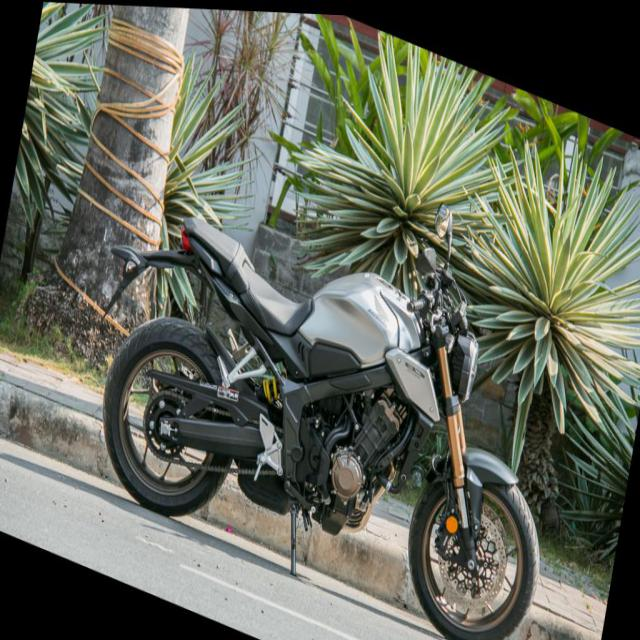CB650R: (67, 69, 591, 639)
